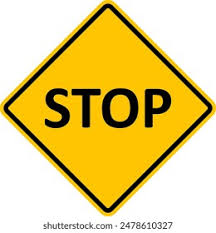Stop Signal: (31, 74, 182, 141)
